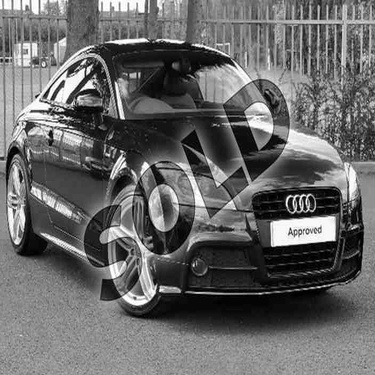car: (9, 35, 368, 321), (16, 53, 61, 69)
